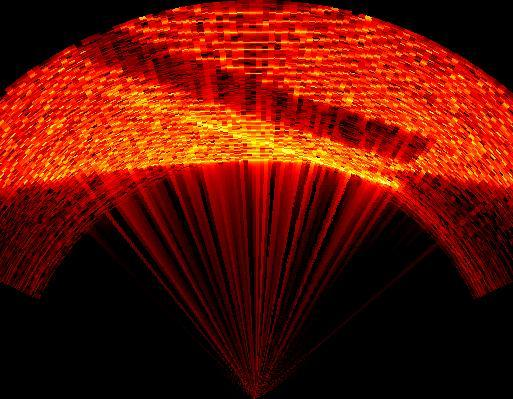pipe: (61, 28, 439, 164)
